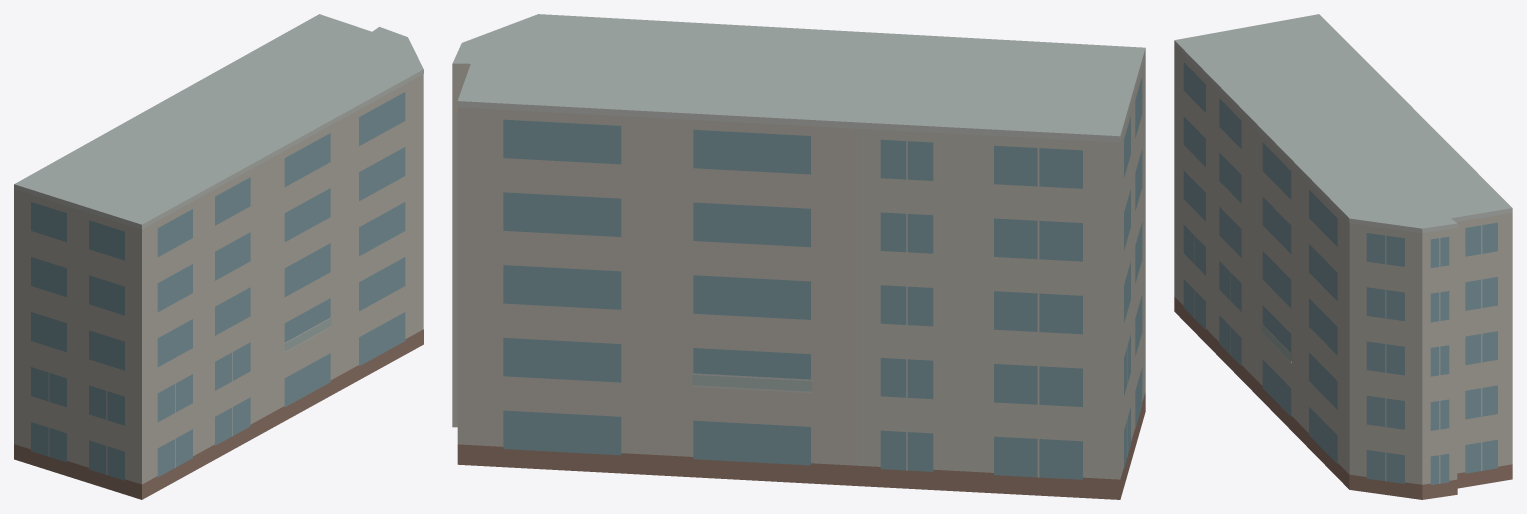
File: survey-upis-32472391.glb
The picture shows the model from 3 angles, left to right: view 1: azimuth 30°, elevation 25°; view 2: azimuth 150°, elevation 25°; view 3: azimuth 270°, elevation 25°; orthographic projection. The views are drawn at different scales.
Visible parts, largest first — view 1: survey-upis-32472391.tmp; view 2: survey-upis-32472391.tmp; view 3: survey-upis-32472391.tmp.
Part boxes in pixels (box(x1,y1,x2,y2)): survey-upis-32472391.tmp: box(14, 14, 423, 499); survey-upis-32472391.tmp: box(452, 14, 1145, 499); survey-upis-32472391.tmp: box(1174, 14, 1512, 499).
Size of the model in its own units: 24.2 by 14.26 by 16.12.
